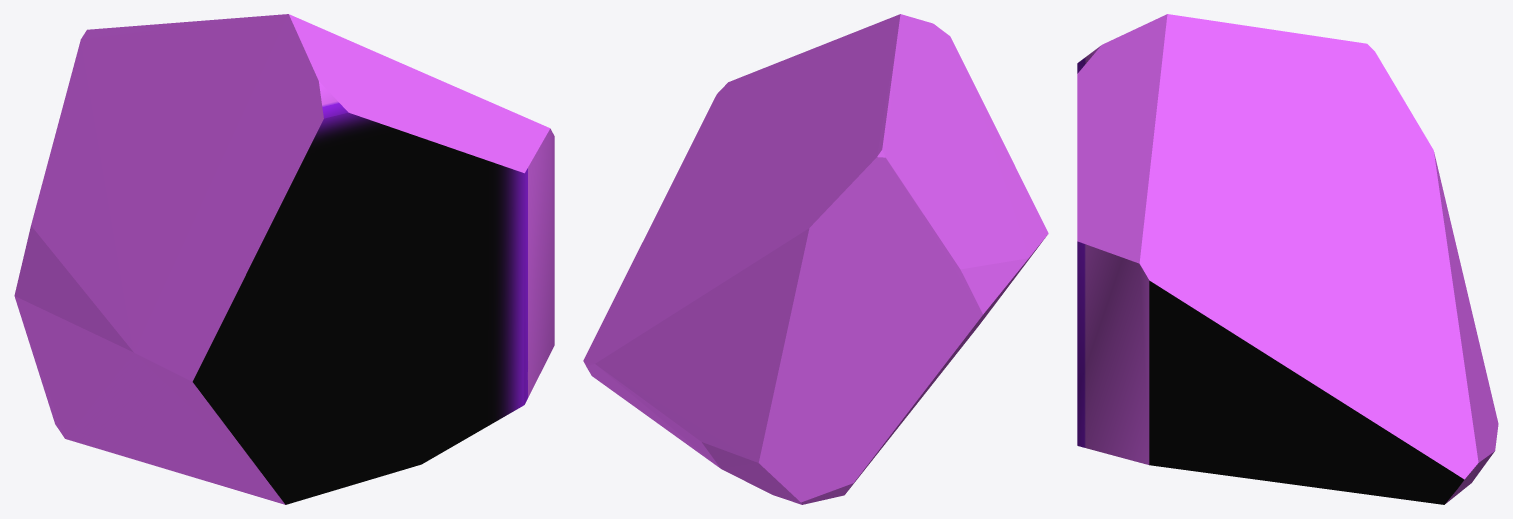
The model's file is blockParticle_14.gltf.
The picture shows the model from 3 angles, left to right: view 1: azimuth 30°, elevation 25°; view 2: azimuth 150°, elevation 25°; view 3: azimuth 270°, elevation 25°; orthographic projection. The views are drawn at different scales.
Parts seen in each view (by area): view 1: 立方体_cell.016; view 2: 立方体_cell.016; view 3: 立方体_cell.016.
Boxes of the visible parts, x1,y1,x2,y2 form: 立方体_cell.016: (14,14,554,504); 立方体_cell.016: (583,14,1048,504); 立方体_cell.016: (1077,14,1498,504).
Size of the model in its own units: 1.34 by 1.5 by 1.24.
Materials: 2 (2 with a texture image).
